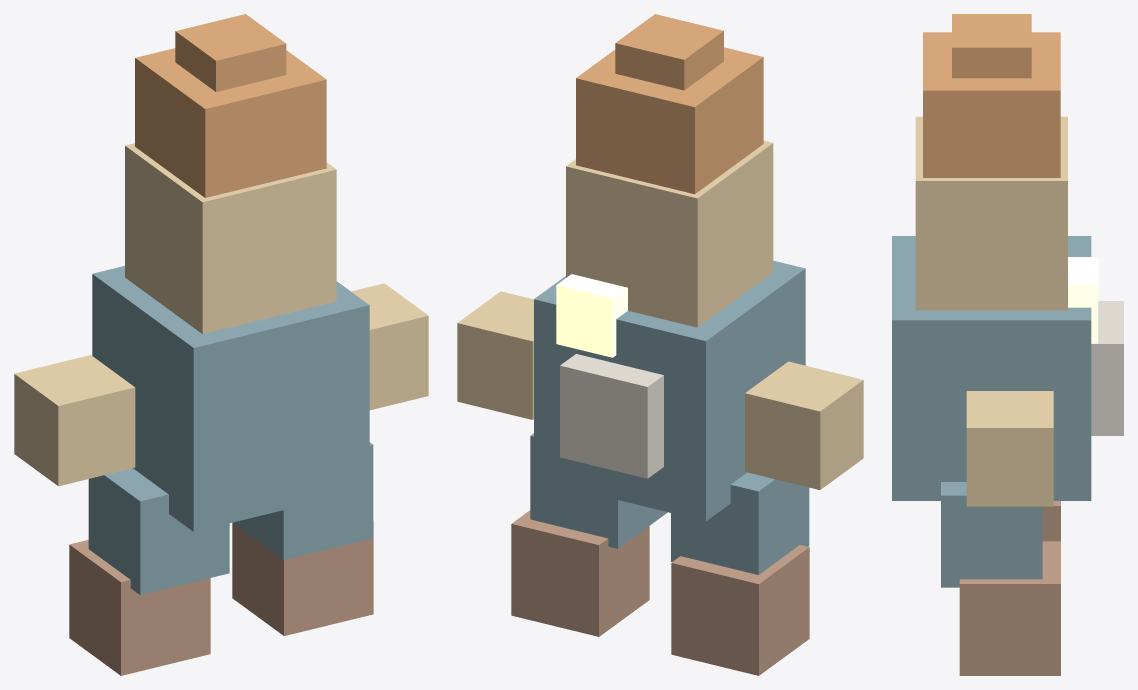
File: ember_player_hearthkeeper_00.glb
3 renders of one model, left to right at view 1: azimuth 30°, elevation 25°; view 2: azimuth 150°, elevation 25°; view 3: azimuth 270°, elevation 25°, orthographic. The views are drawn at different scales.
Visible parts, largest first — view 1: ember_player_hearthkeeper_00; view 2: ember_player_hearthkeeper_00; view 3: ember_player_hearthkeeper_00.
Part boxes in pixels (x1,y1,x2,y2): ember_player_hearthkeeper_00: [14, 14, 428, 675]; ember_player_hearthkeeper_00: [457, 14, 863, 675]; ember_player_hearthkeeper_00: [892, 14, 1123, 675].
Bounding box in the file's own units: 1.14 × 1.74 × 0.6267.
